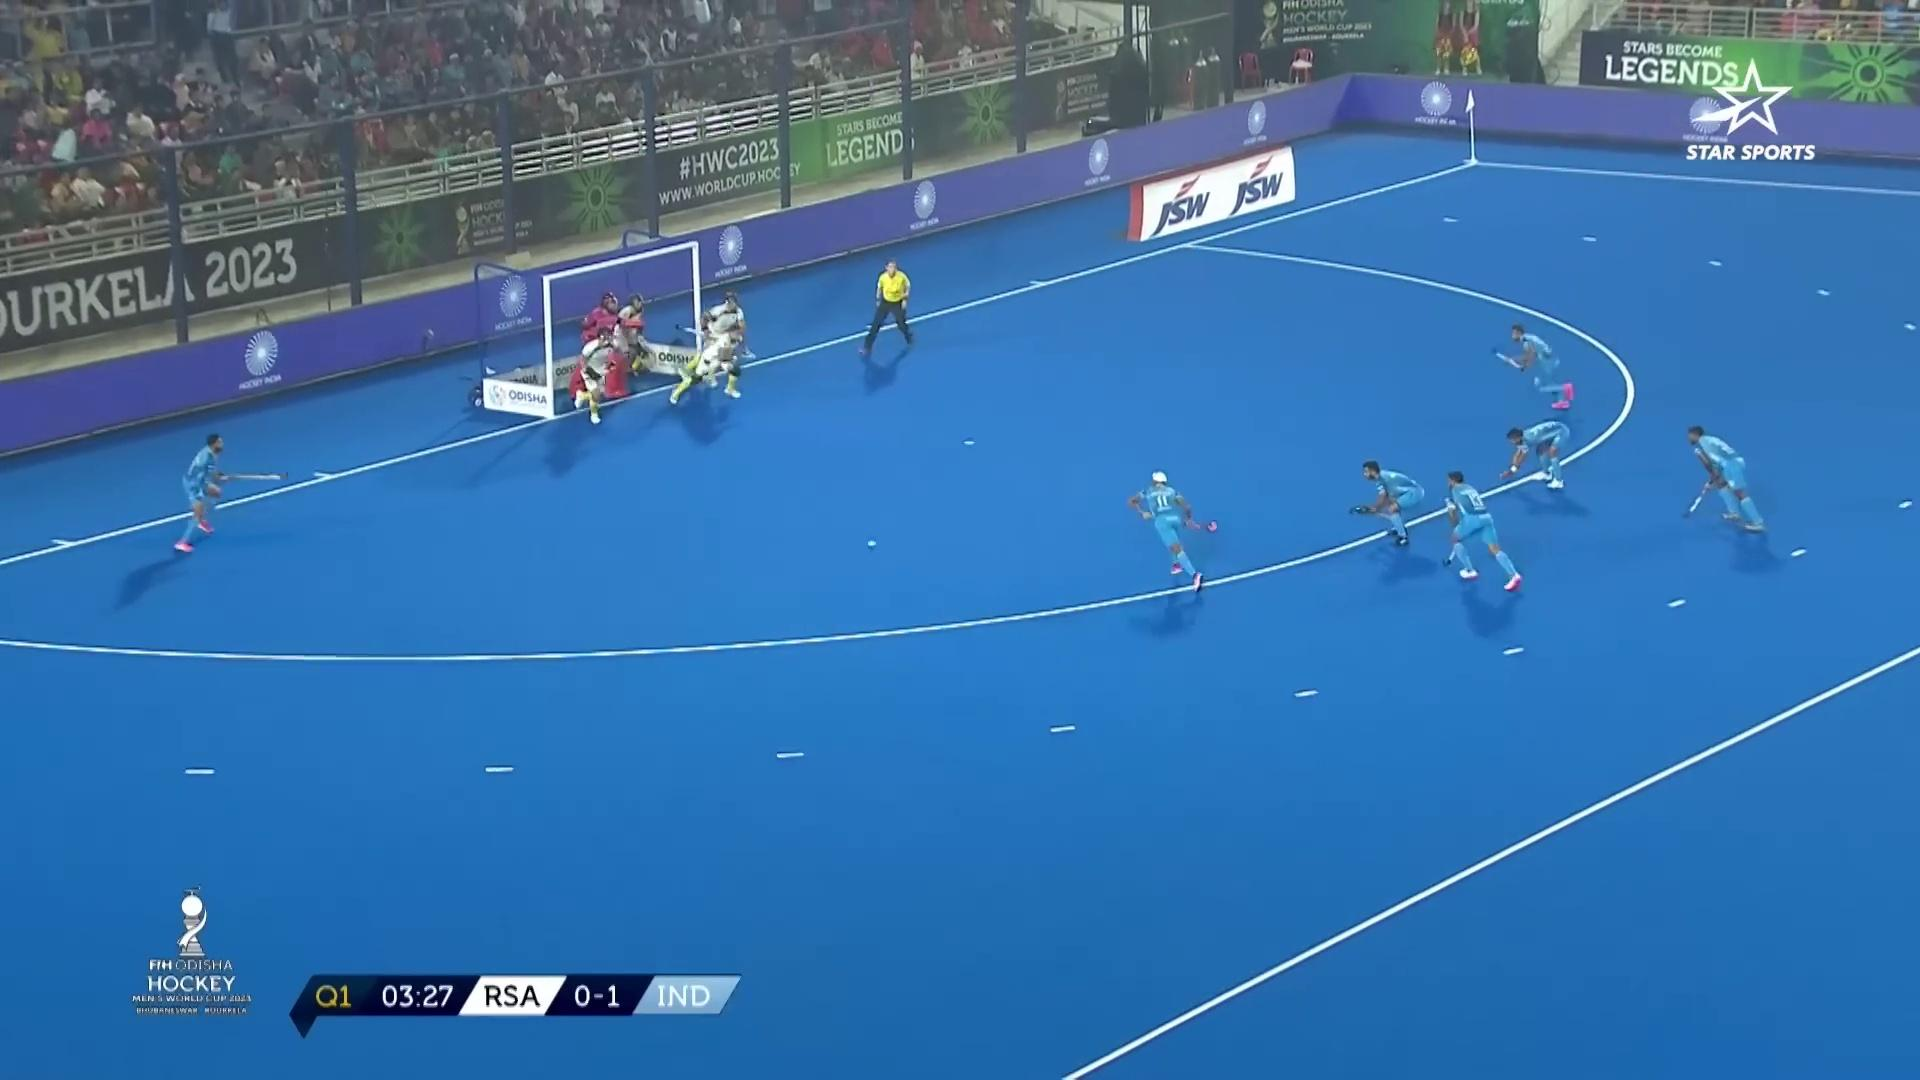ball: (866, 538, 878, 550)
